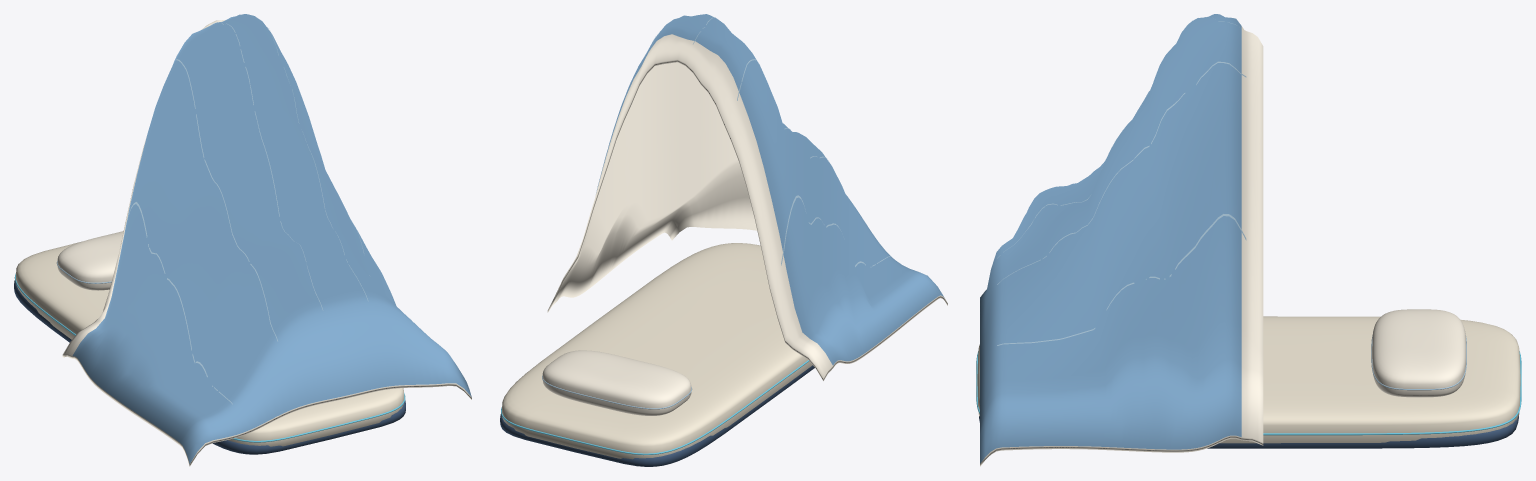
The model's file is futon.glb.
3 views of the same model, side by side, from view 1: azimuth 30°, elevation 25°; view 2: azimuth 150°, elevation 25°; view 3: azimuth 270°, elevation 25° (orthographic). The views are drawn at different scales.
Parts seen in each view (by area): view 1: Futon_Blanket, Futon_Mattress, Futon_Pillow, Futon_Lower_Border, Futon_Quilt_Stitches, Mattress_Piping; view 2: Futon_Blanket, Futon_Mattress, Futon_Pillow, Futon_Lower_Border, Mattress_Piping; view 3: Futon_Blanket, Futon_Mattress, Futon_Pillow, Futon_Lower_Border, Futon_Quilt_Stitches, Mattress_Piping.
Boxes of the visible parts, x1,y1,x2,y2 form: Futon_Blanket: (62,14,471,466); Futon_Mattress: (16,241,404,446); Futon_Pillow: (57,231,123,290); Futon_Lower_Border: (14,280,405,454); Futon_Quilt_Stitches: (121,22,413,404); Mattress_Piping: (14,273,405,442); Futon_Blanket: (547,14,947,380); Futon_Mattress: (502,243,812,459); Futon_Pillow: (542,350,691,415); Futon_Lower_Border: (500,365,814,466); Mattress_Piping: (501,360,809,455); Futon_Blanket: (980,14,1263,466); Futon_Mattress: (977,316,1520,443); Futon_Pillow: (1372,309,1466,397); Futon_Lower_Border: (979,416,1518,448); Futon_Quilt_Stitches: (997,17,1246,345); Mattress_Piping: (976,351,1521,435).
Bounding box in the file's own units: 1.27 × 1.48 × 1.91.
